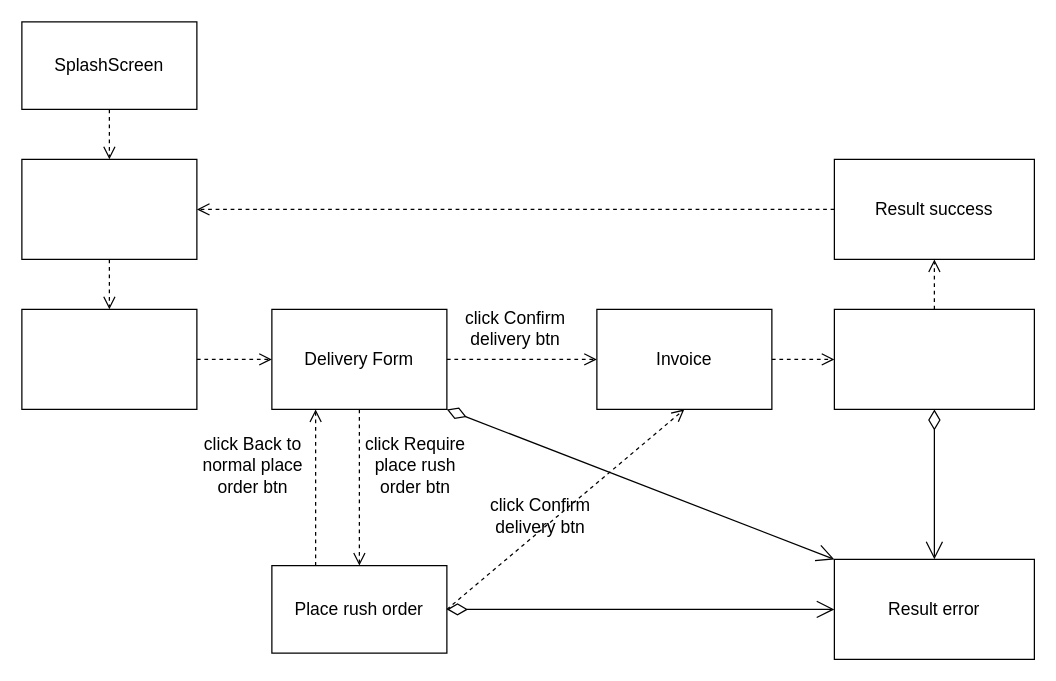
The diagram is 1056 pixels wide and 681 high, and some of its shapes have lost their labels. The shapes that lost their labels are listed below. From the top down, each one's centre as x and y in pixels, then its label:
At point (109, 208): "Home Screen".
At point (109, 358): "Cart".
At point (933, 358): "Payment".
